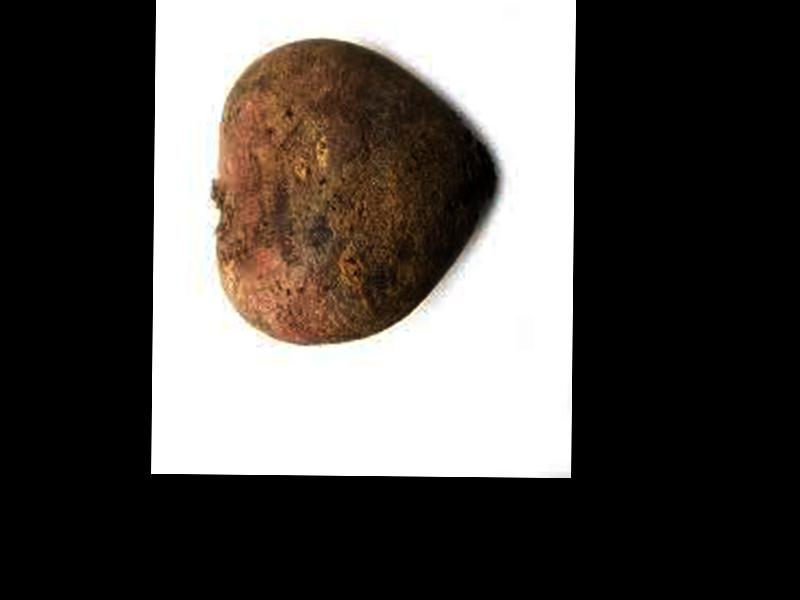Beet: (213, 35, 495, 347)
